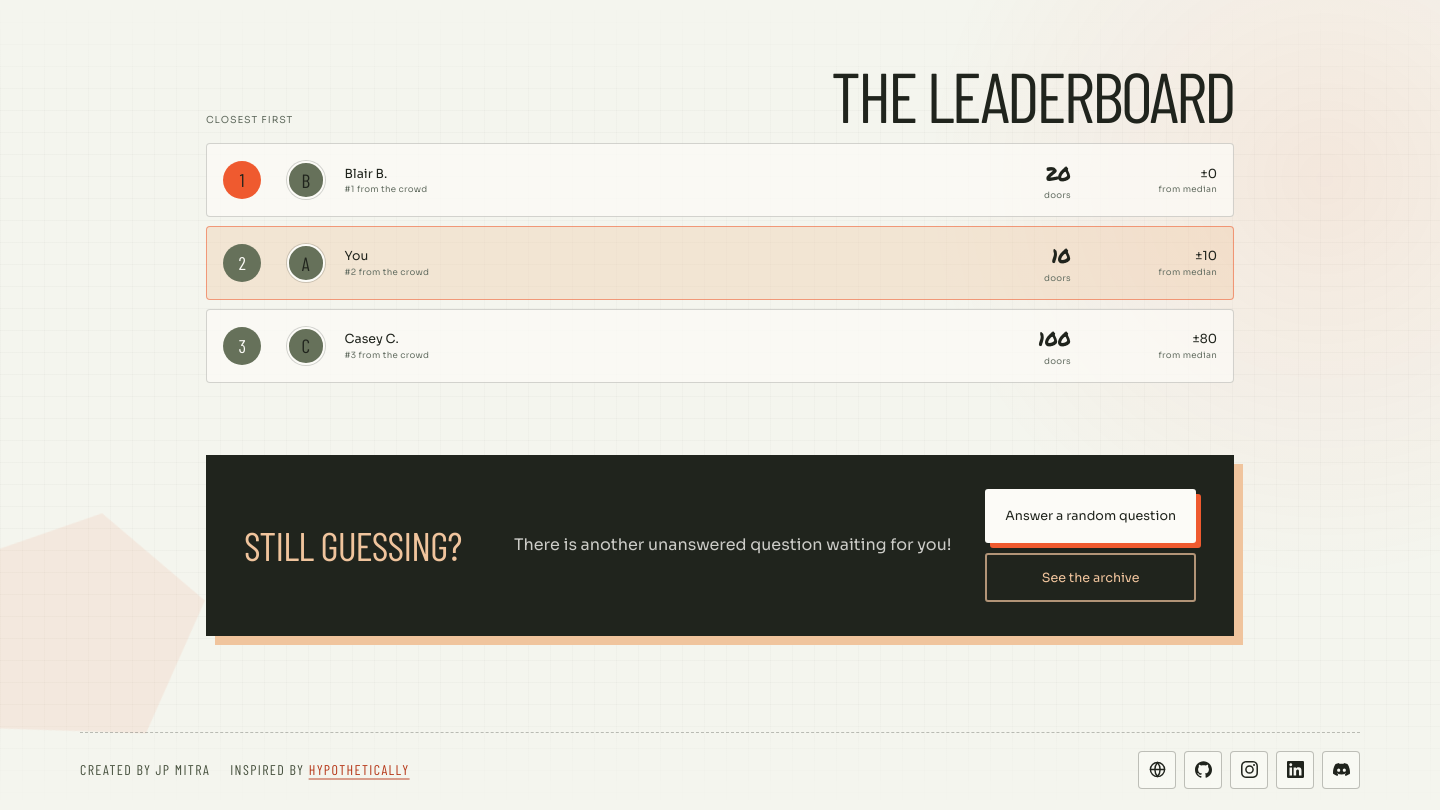
How Many, Though? experience › navigates to a random unanswered question
(page scrolled)
Click the button "Answer a random question". click: [1091, 516]
box: [985, 489, 1196, 543]
(page scrolled)
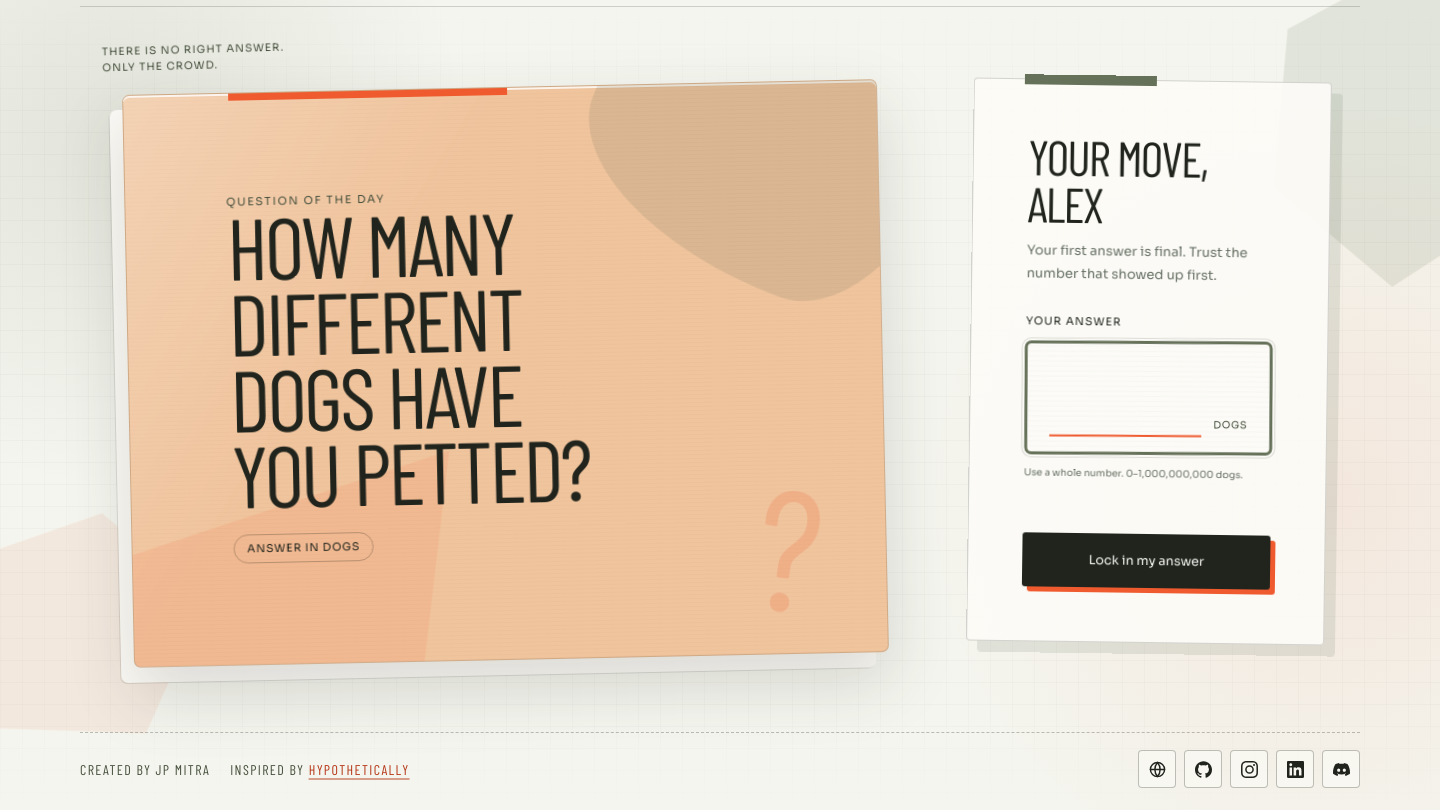
Result: the heading "How many different dogs have you petted?" is shown at [226, 189, 591, 526]
